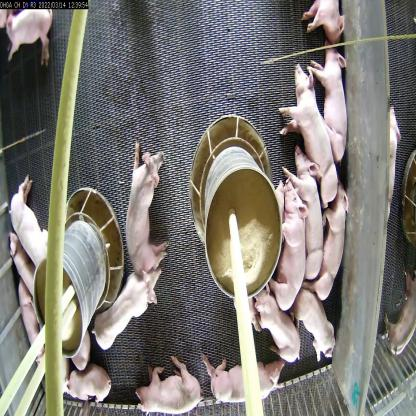Pig: (277, 52, 340, 208), (121, 141, 172, 274), (308, 34, 358, 161), (270, 174, 308, 316), (291, 137, 329, 278), (318, 174, 356, 314), (5, 167, 53, 266), (94, 278, 157, 350), (210, 357, 287, 415), (135, 353, 200, 416), (257, 280, 297, 364), (294, 292, 336, 367), (4, 1, 54, 59), (15, 282, 41, 362), (60, 359, 108, 401)
